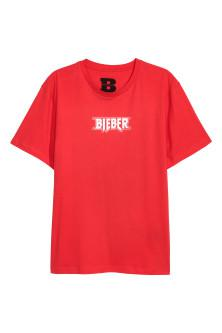teeshirt: (9, 58, 218, 285)
